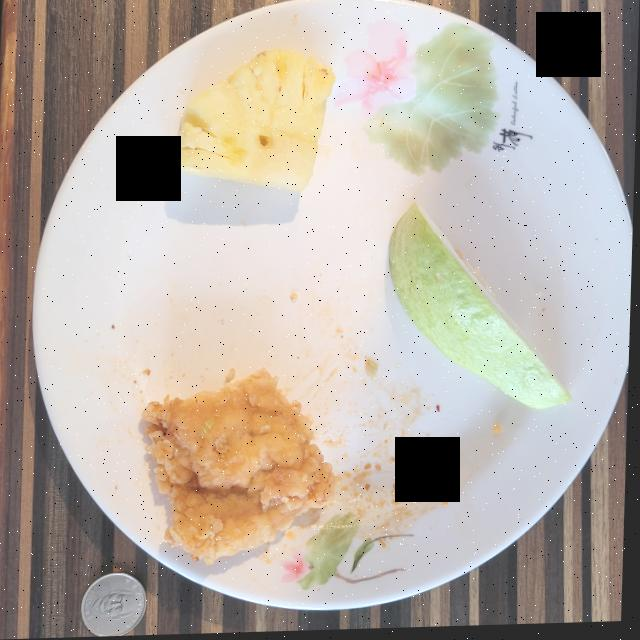coin: (84, 574, 150, 637)
fried chicken cutlet: (145, 371, 339, 566)
guava -sliced-: (391, 206, 574, 412)
pineapple: (175, 50, 335, 194)
